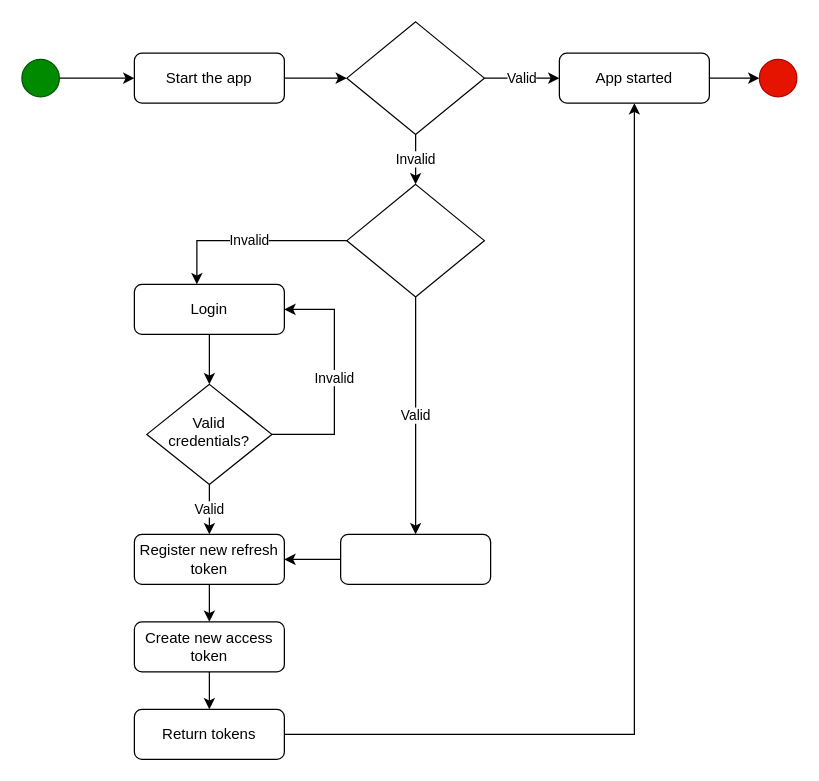
Some shapes in this 819 by 781 pixel diagram are drawn without their labels. Here are the shapes that lost their labels. From the top down, the box of each, then its label:
(346, 21, 484, 134): check Access token
(346, 183, 484, 297): Has refresh token?
(339, 533, 491, 584): Revoke old refresh token
